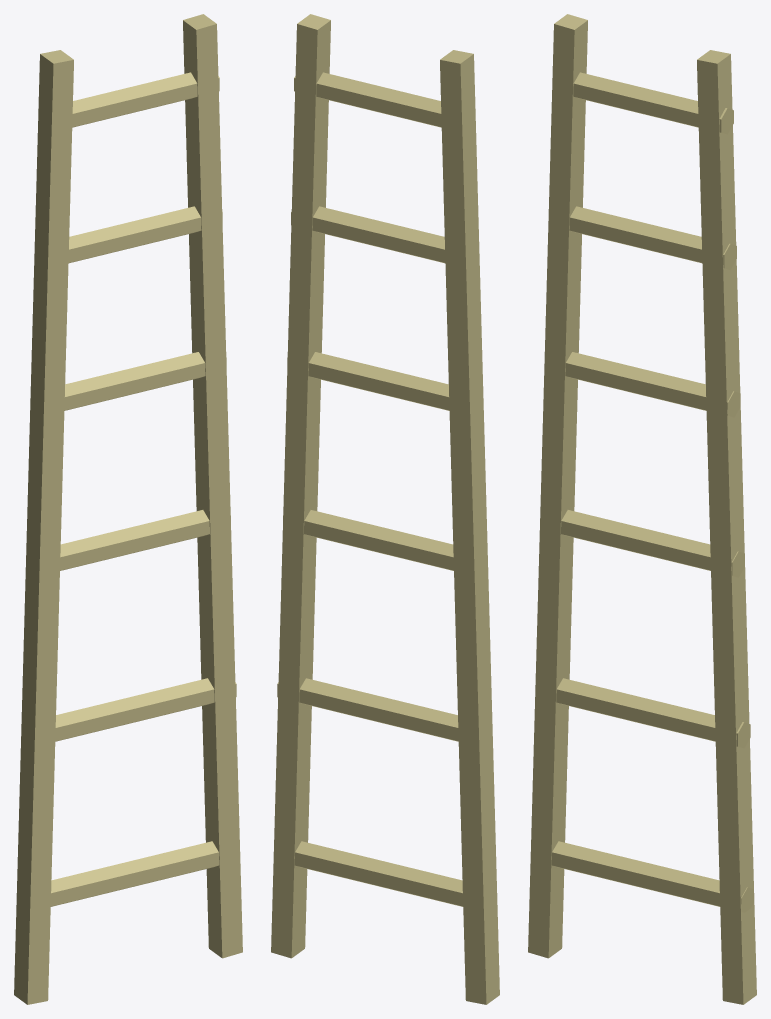
File: Ladder.fbx
3 views of the same model, side by side, from view 1: azimuth 30°, elevation 25°; view 2: azimuth 150°, elevation 25°; view 3: azimuth 330°, elevation 25° (orthographic).
Parts seen in each view (by area): view 1: Ladder; view 2: Ladder; view 3: Ladder.
Part boxes in pixels (x1,y1,x2,y2): Ladder: (14,14,242,1004); Ladder: (271,14,499,1004); Ladder: (528,14,756,1004).
Size of the model in its own units: 89.84 by 373 by 9.75.
